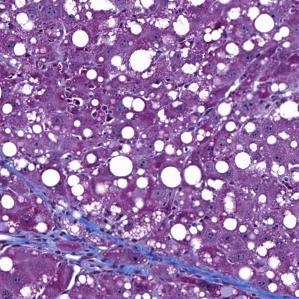fibrosis: (44, 210, 164, 282)
